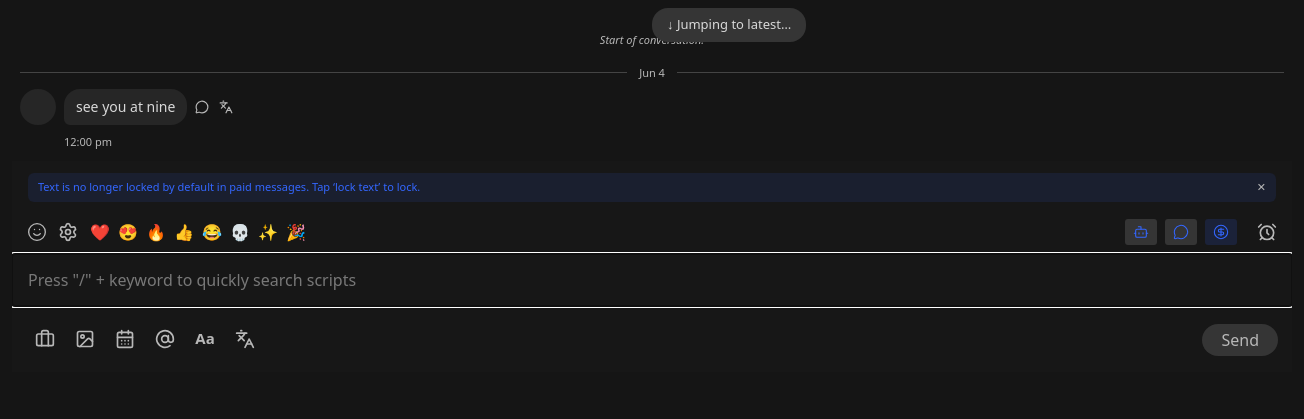
MessageList reply strip, with the real Composer › ✕ 'Cancel reply' removes the strip
Click the button titled "Quote-reply" at x=202, y=107, box [190,95,214,119]
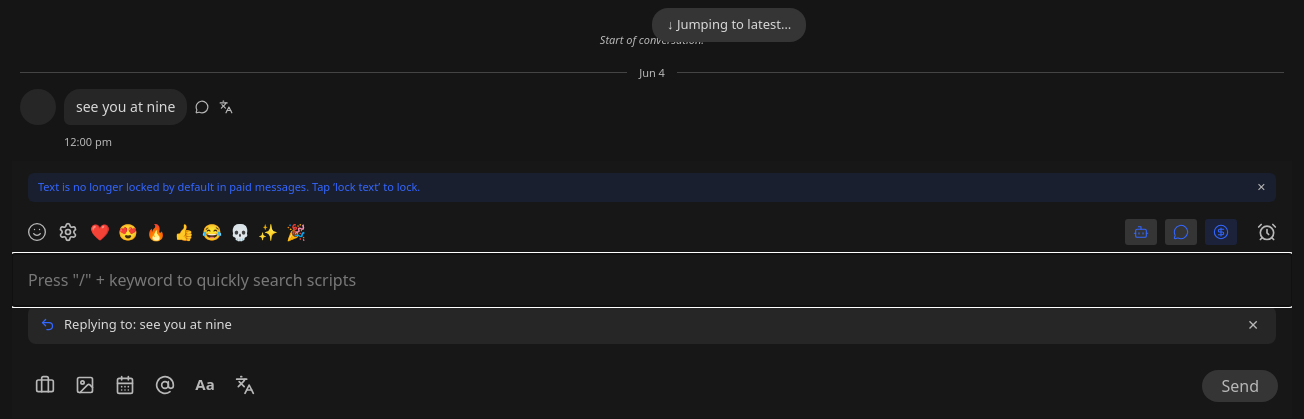
Click the button named "Cancel reply" at x=1253, y=324, box [1242,314,1264,336]
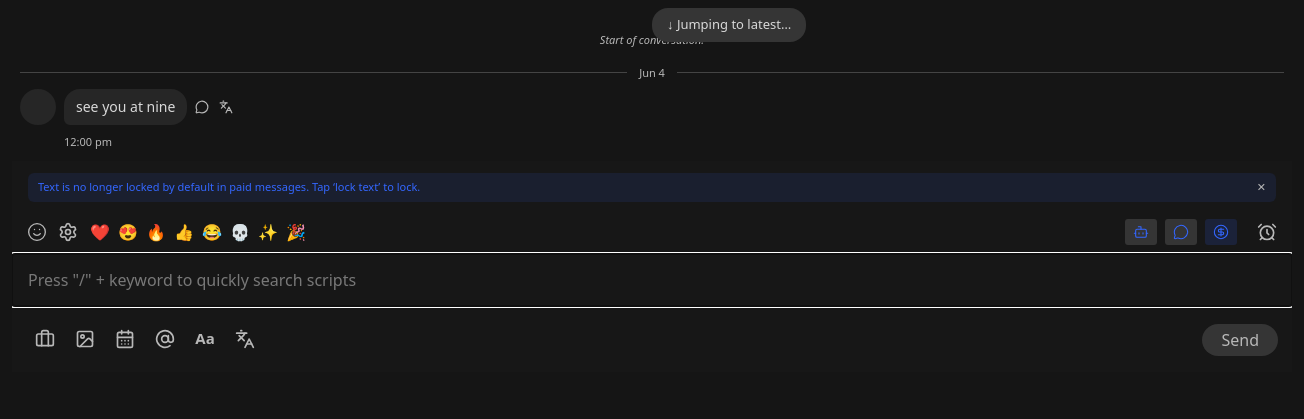
Expected: the text "Replying to" is gone
